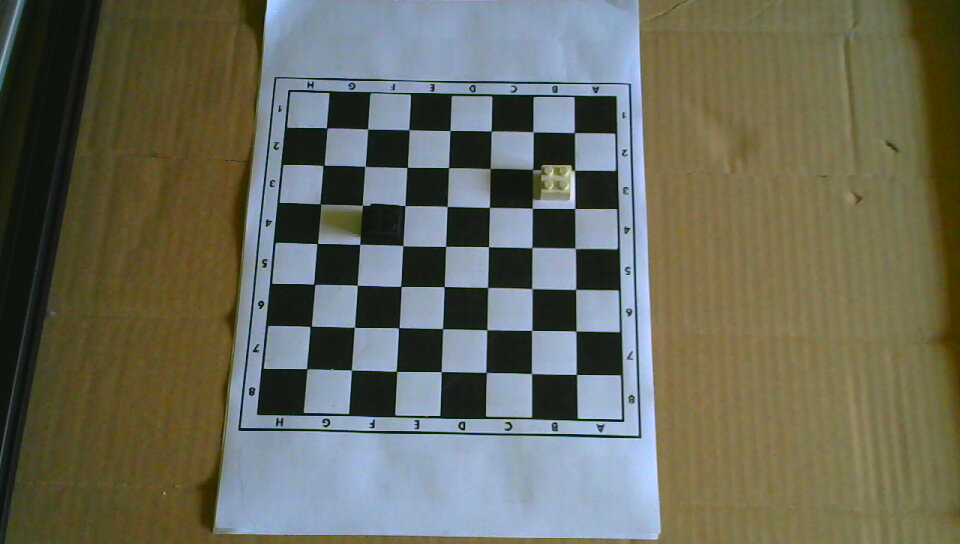bp: (363, 199, 404, 242)
wp: (537, 161, 573, 203)
